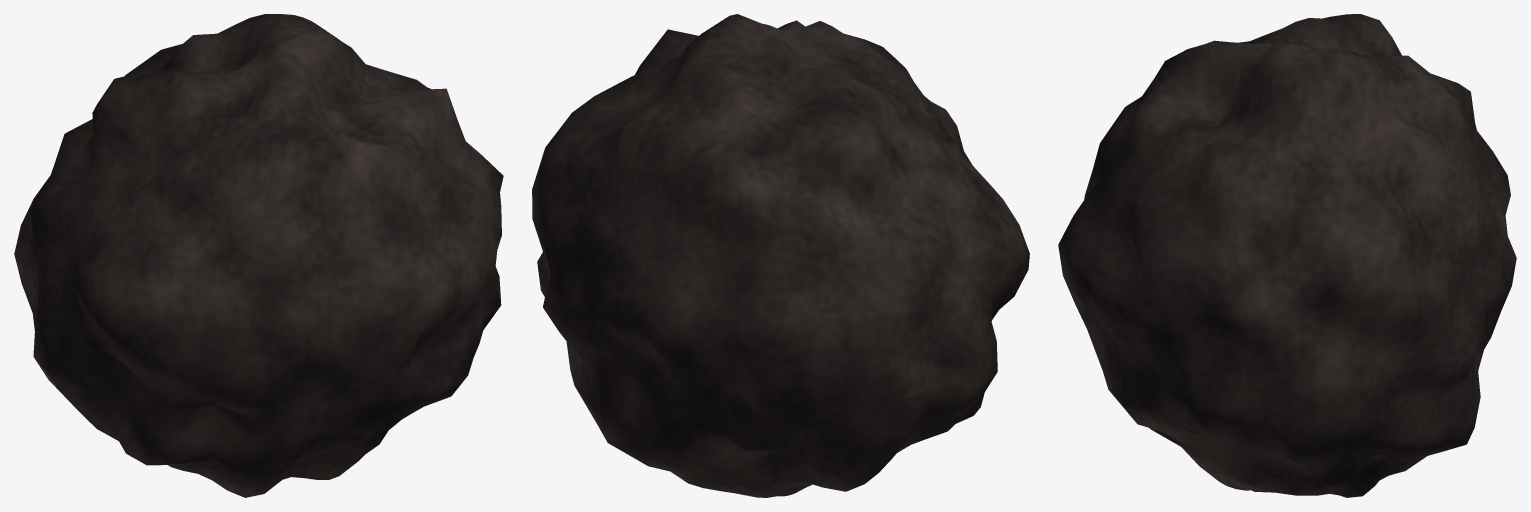
Rendered from asteroide-basalto.glb.
3 views of the same model, side by side, from view 1: azimuth 30°, elevation 25°; view 2: azimuth 150°, elevation 25°; view 3: azimuth 270°, elevation 25° (orthographic). The views are drawn at different scales.
Parts seen in each view (by area): view 1: Asteroide · basalto; view 2: Asteroide · basalto; view 3: Asteroide · basalto.
Boxes of the visible parts, x1,y1,x2,y2 form: Asteroide · basalto: (14,14,503,497); Asteroide · basalto: (532,14,1029,497); Asteroide · basalto: (1058,14,1516,497).
Bounding box in the file's own units: 1.91 × 1.9 × 1.73.
1 material, 1 textured.
